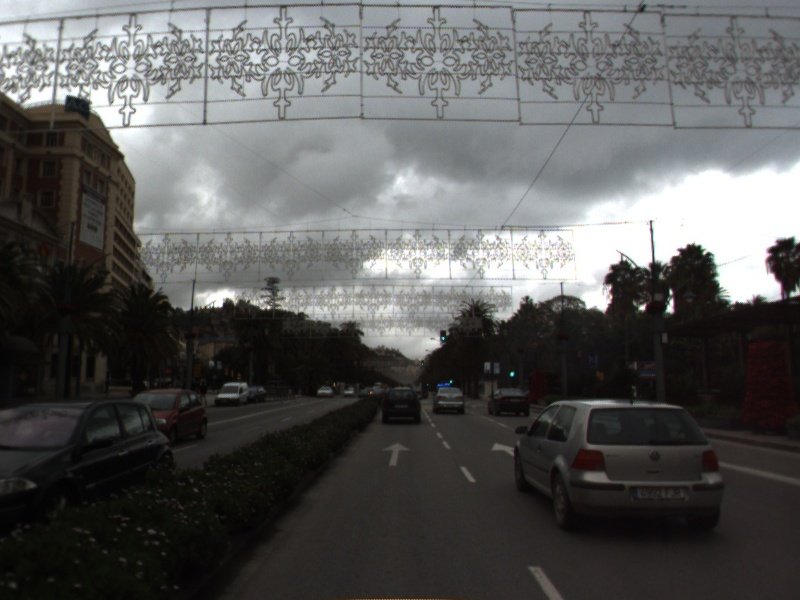STRAIGHT: (380, 440, 413, 468), (489, 441, 516, 456)
